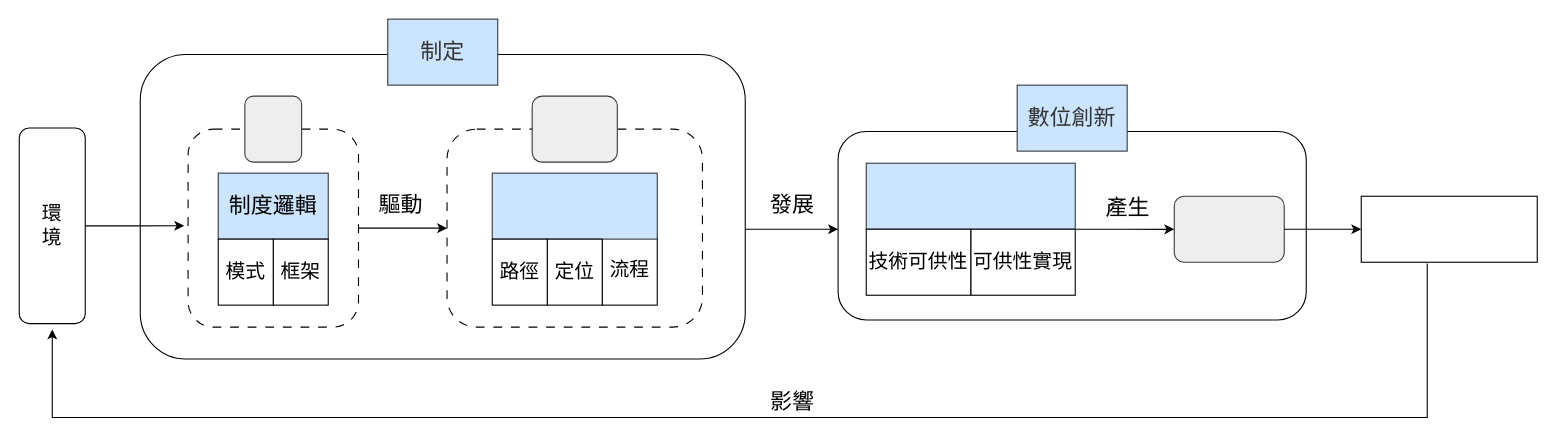
The diagram is 1557 pixels wide and 447 high, and some of its shapes have lost their labels. The shapes that lost their labels are listed below. From the top down, each one's box as (x1, y1, x2, y2) in pixels, then its label:
(244, 95, 302, 162): 認知
(531, 95, 617, 162): 行動
(491, 172, 657, 239): 動態能力
(865, 162, 1075, 229): 科技可供性
(1173, 195, 1284, 262): 結果
(1360, 195, 1537, 262): 數位創新 產品與服務
